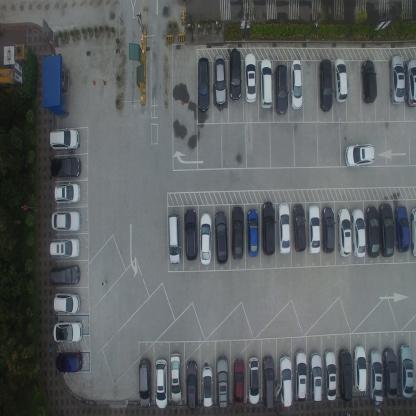car: (398, 342, 414, 400), (379, 202, 395, 258), (367, 348, 383, 404), (382, 345, 398, 401), (258, 58, 274, 112), (344, 142, 376, 169), (364, 204, 380, 258), (273, 64, 289, 116), (261, 200, 276, 255), (389, 53, 405, 104), (337, 206, 353, 257), (292, 202, 308, 253), (182, 207, 197, 261), (318, 58, 333, 112), (198, 210, 212, 266), (230, 204, 244, 260), (338, 347, 352, 403), (360, 58, 377, 104), (306, 204, 321, 256), (49, 126, 80, 151), (49, 263, 80, 288), (52, 319, 83, 344), (213, 209, 227, 264), (166, 211, 180, 265), (197, 56, 210, 114), (228, 48, 242, 101), (262, 354, 275, 410), (169, 352, 183, 404), (50, 153, 80, 177), (394, 204, 409, 252), (351, 207, 365, 258), (309, 352, 323, 403), (154, 357, 168, 407), (54, 348, 82, 373), (50, 210, 80, 233), (333, 58, 348, 104), (214, 53, 227, 106), (294, 349, 307, 402), (279, 355, 292, 408), (216, 356, 229, 409), (49, 236, 80, 258), (232, 358, 245, 410), (353, 344, 367, 392), (290, 59, 303, 110), (138, 356, 151, 407), (246, 208, 259, 258), (322, 205, 335, 254), (324, 349, 336, 402), (186, 359, 198, 412), (278, 202, 290, 254), (53, 292, 81, 314), (244, 53, 256, 104), (247, 355, 259, 405), (54, 182, 80, 204), (200, 364, 213, 407), (405, 57, 415, 108), (410, 206, 416, 258)
